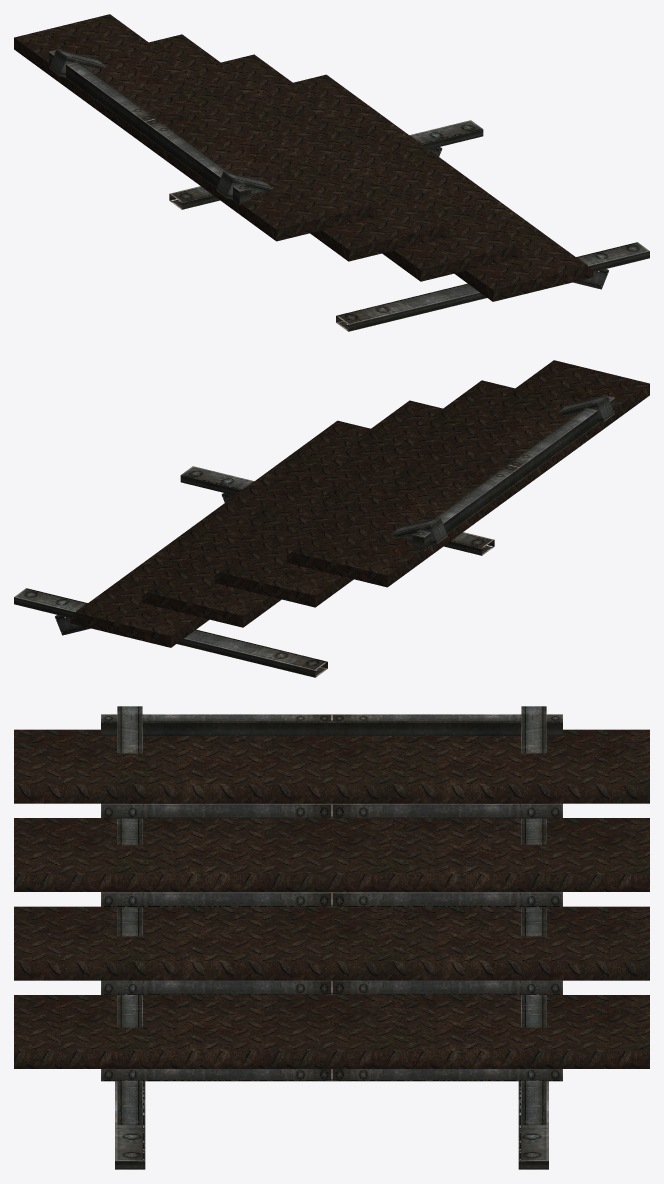
File: tunnels_steps.DAE
The picture shows the model from 3 angles, top to bottom: view 1: azimuth 30°, elevation 25°; view 2: azimuth 150°, elevation 25°; view 3: azimuth 270°, elevation 25°; orthographic projection. The views are drawn at different scales.
Visible parts, largest first — view 1: steps, stair_support; view 2: steps, stair_support; view 3: steps, stair_support.
Boxes of the visible parts, bbox=[...] form: steps: bbox=[14, 14, 593, 301]; stair_support: bbox=[49, 49, 649, 331]; steps: bbox=[70, 360, 649, 647]; stair_support: bbox=[14, 395, 614, 677]; steps: bbox=[14, 729, 649, 1068]; stair_support: bbox=[101, 706, 562, 1169].
Size of the model in its own units: 1.76 by 1.89 by 0.7956.
